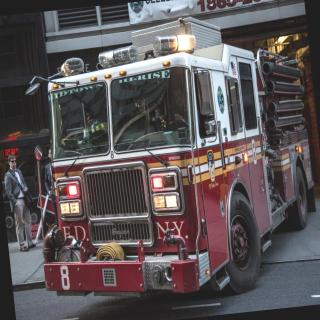Fire_truck: (17, 4, 320, 314)
